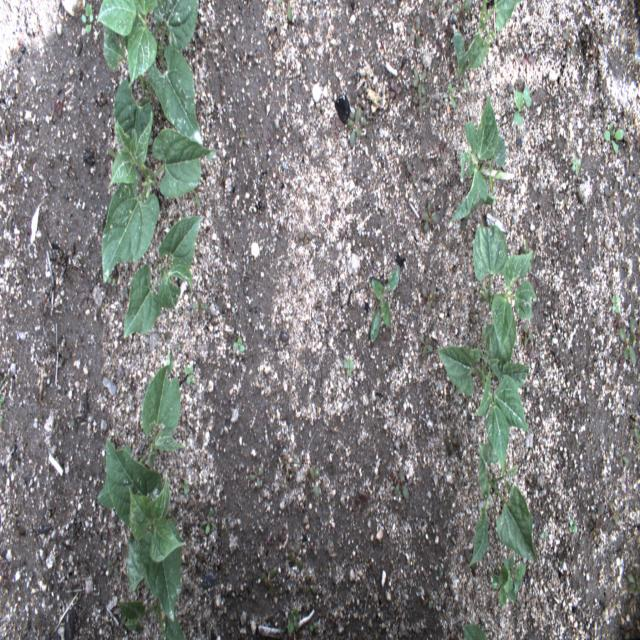crop: (92, 348, 189, 638), (97, 109, 219, 304), (94, 1, 208, 168), (434, 342, 533, 472), (120, 216, 206, 340), (474, 229, 541, 373), (471, 437, 540, 567), (452, 88, 514, 222), (451, 2, 522, 98)
weed: (370, 262, 399, 343), (608, 295, 635, 371), (491, 561, 530, 606), (510, 84, 535, 130), (600, 120, 630, 158), (345, 104, 366, 152), (407, 55, 432, 90), (80, 2, 94, 36), (231, 332, 249, 357)
